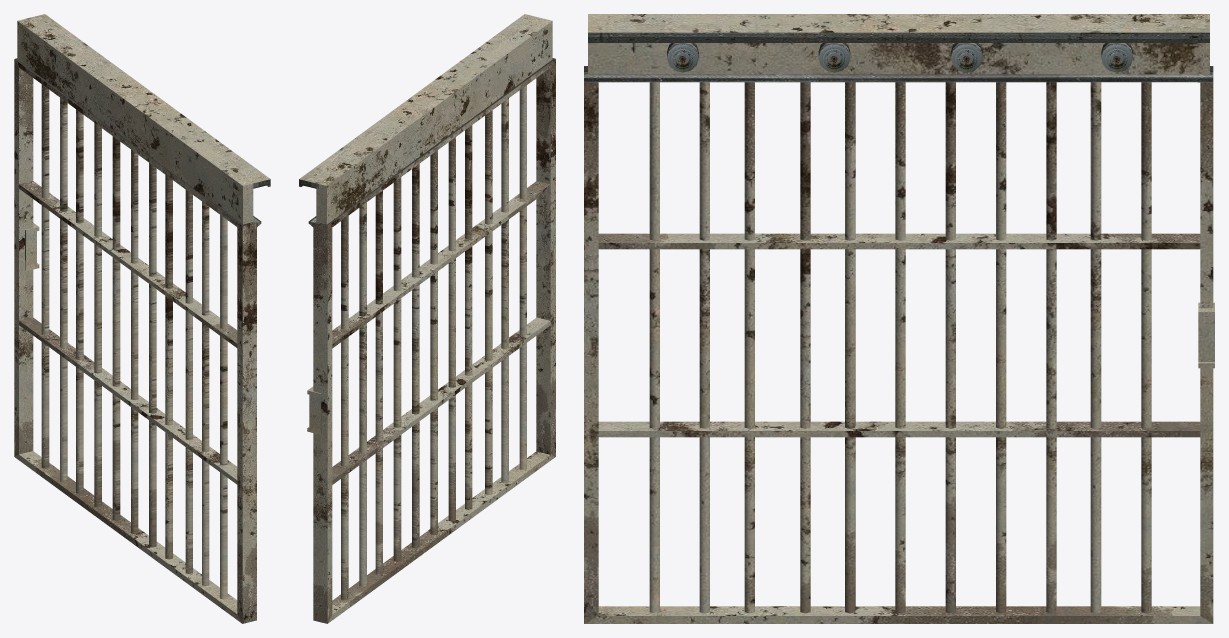
Rendered from prison_slidingdoor001a.glb.
3 views of the same model, side by side, from view 1: azimuth 30°, elevation 25°; view 2: azimuth 150°, elevation 25°; view 3: azimuth 270°, elevation 25° (orthographic). The views are drawn at different scales.
Parts seen in each view (by area): view 1: 0_prison_objects004; view 2: 0_prison_objects004; view 3: 0_prison_objects004.
Part boxes in pixels (bbox=[...]): 0_prison_objects004: bbox=[14, 14, 270, 623]; 0_prison_objects004: bbox=[299, 14, 555, 623]; 0_prison_objects004: bbox=[584, 14, 1214, 623].
Bounding box in the file's own units: 0.2151 × 3.02 × 2.87.
Materials: 1 (1 with a texture image).
